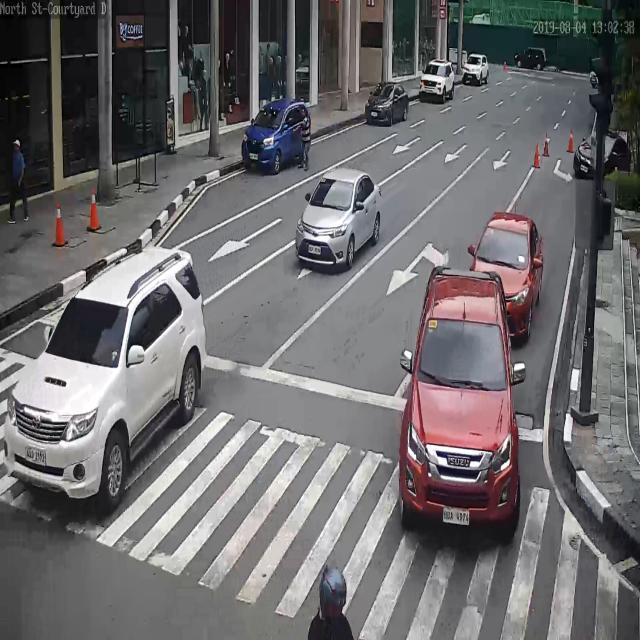car: (3, 238, 216, 509), (400, 267, 517, 534), (468, 211, 545, 343), (294, 171, 382, 276), (242, 98, 314, 177), (572, 126, 632, 176), (365, 83, 412, 127), (421, 60, 457, 106), (460, 53, 489, 86), (514, 47, 547, 70)
jeepney: (308, 564, 356, 640)
